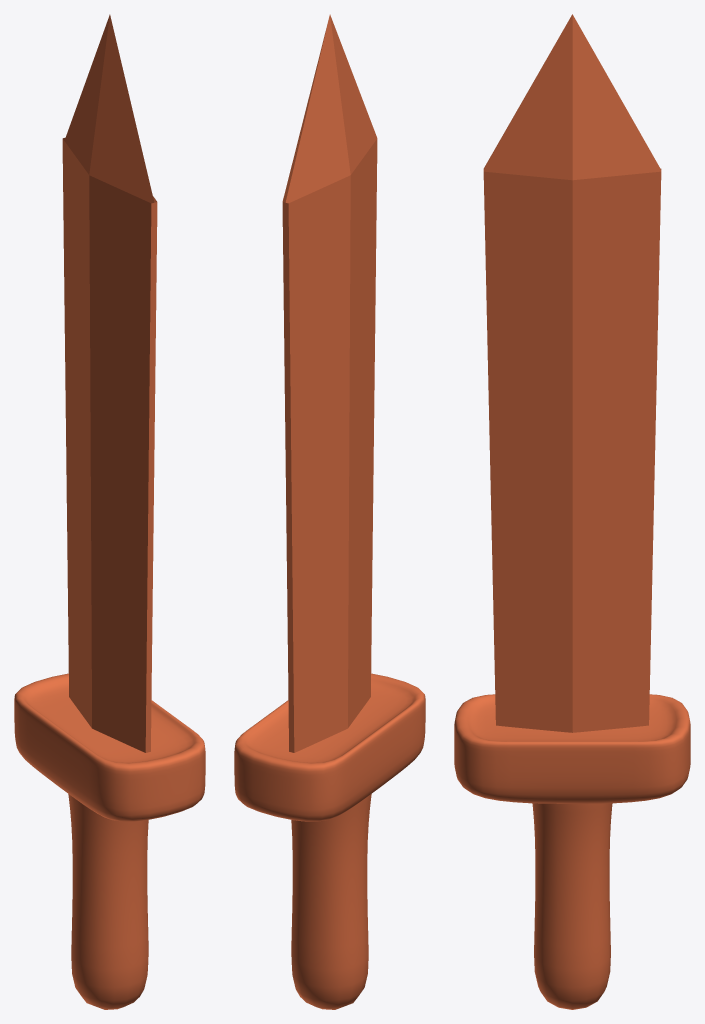
Rendered from sword.fbx.
3 renders of one model, left to right at view 1: azimuth 30°, elevation 25°; view 2: azimuth 150°, elevation 25°; view 3: azimuth 270°, elevation 25°, orthographic.
Parts seen in each view (by area): view 1: 날, 목, 밑받침; view 2: 날, 목, 밑받침; view 3: 날, 목, 밑받침.
Boxes of the visible parts, x1,y1,x2,y2 form: 날: (62, 14, 157, 752); 목: (14, 673, 205, 821); 밑받침: (68, 794, 148, 1009); 날: (282, 14, 377, 752); 목: (234, 673, 425, 821); 밑받침: (291, 794, 371, 1009); 날: (483, 14, 661, 732); 목: (454, 694, 690, 803); 밑받침: (532, 803, 612, 1009).
Size of the model in its own units: 40.5 by 369 by 79.82.
